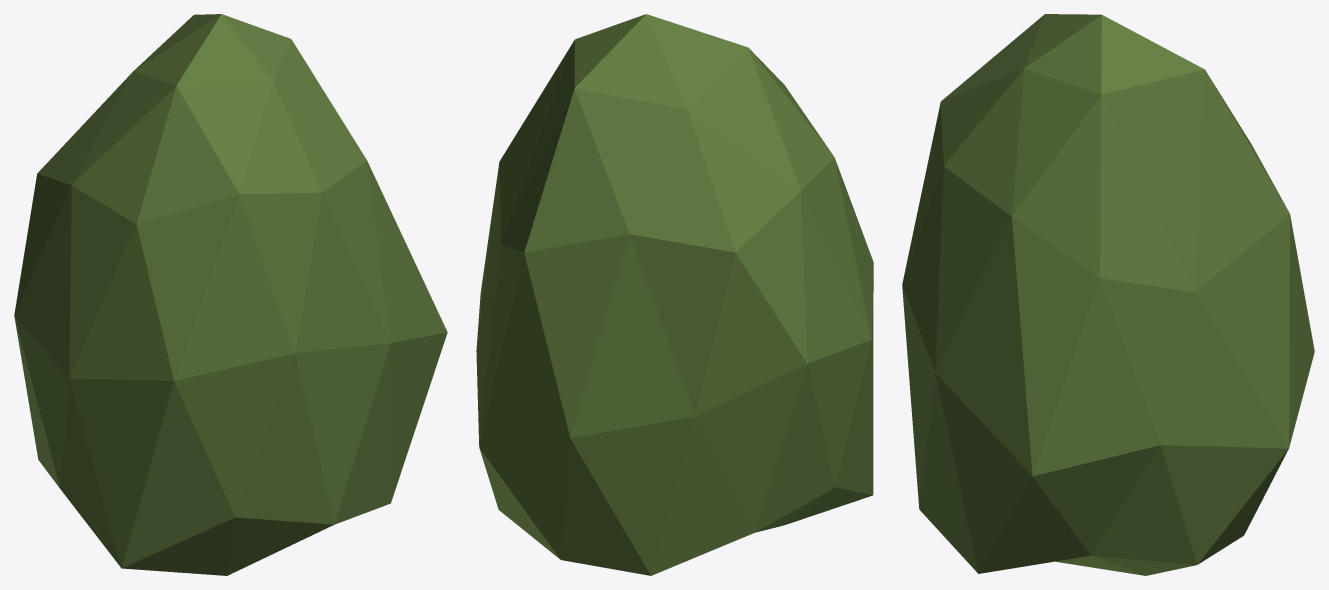
The model's file is Bush_01_Mesh.fbx.
3 renders of one model, left to right at view 1: azimuth 30°, elevation 25°; view 2: azimuth 150°, elevation 25°; view 3: azimuth 270°, elevation 25°, orthographic. The views are drawn at different scales.
Visible parts, largest first — view 1: Bush_01; view 2: Bush_01; view 3: Bush_01.
Boxes of the visible parts, box(x1,y1,x2,y2) form: Bush_01: box(14, 14, 447, 575); Bush_01: box(476, 14, 873, 575); Bush_01: box(902, 14, 1314, 575).
Size of the model in its own units: 207 by 264 by 184.
